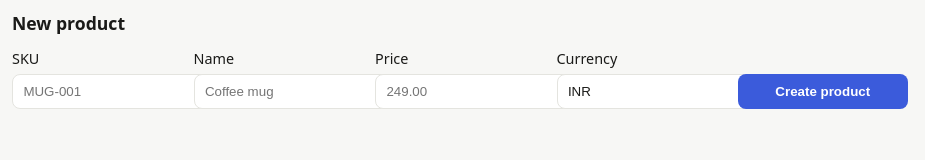
it: CreateProductForm › shows field errors accessibly
The width and height of the screenshot is (925, 160).
Click the button "Create product": (823, 92) left=738, top=74, right=908, bottom=109
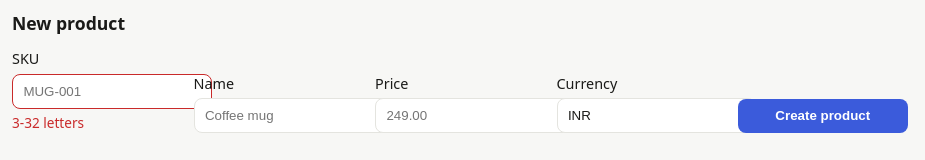
Expected: the text "3-32 letters" is shown, left=12, top=113, right=84, bottom=132
